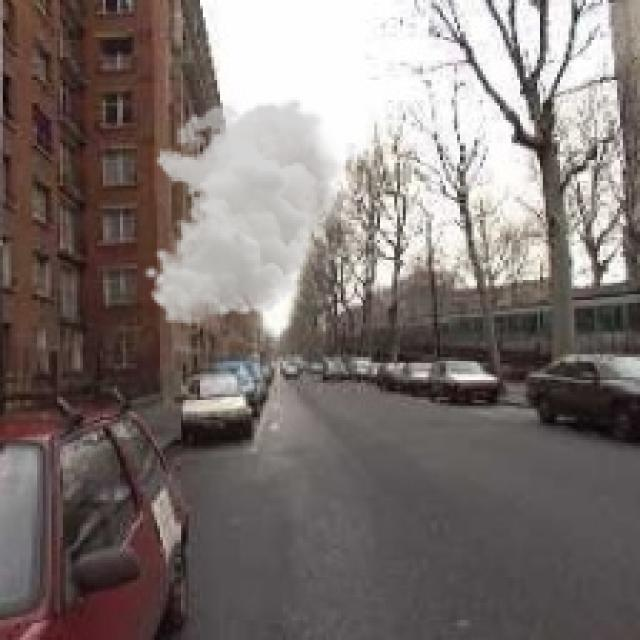smoke: (143, 97, 351, 326)
